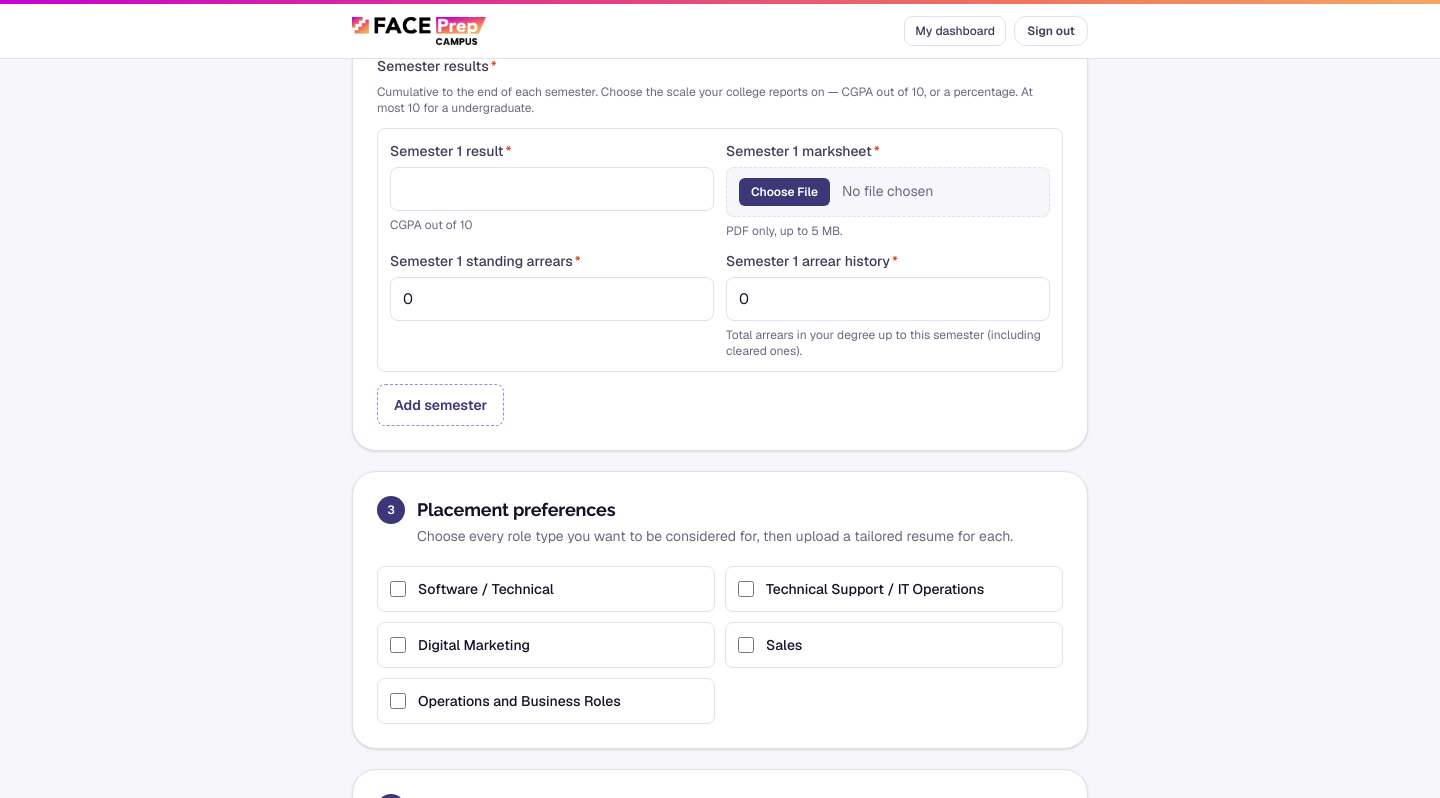
Test case: SRF validation › semester-wise academics › adds the next semester, numbering it automatically
(page scrolled)
Click the button "Add semester" at (441, 405), box [377,384,504,426]
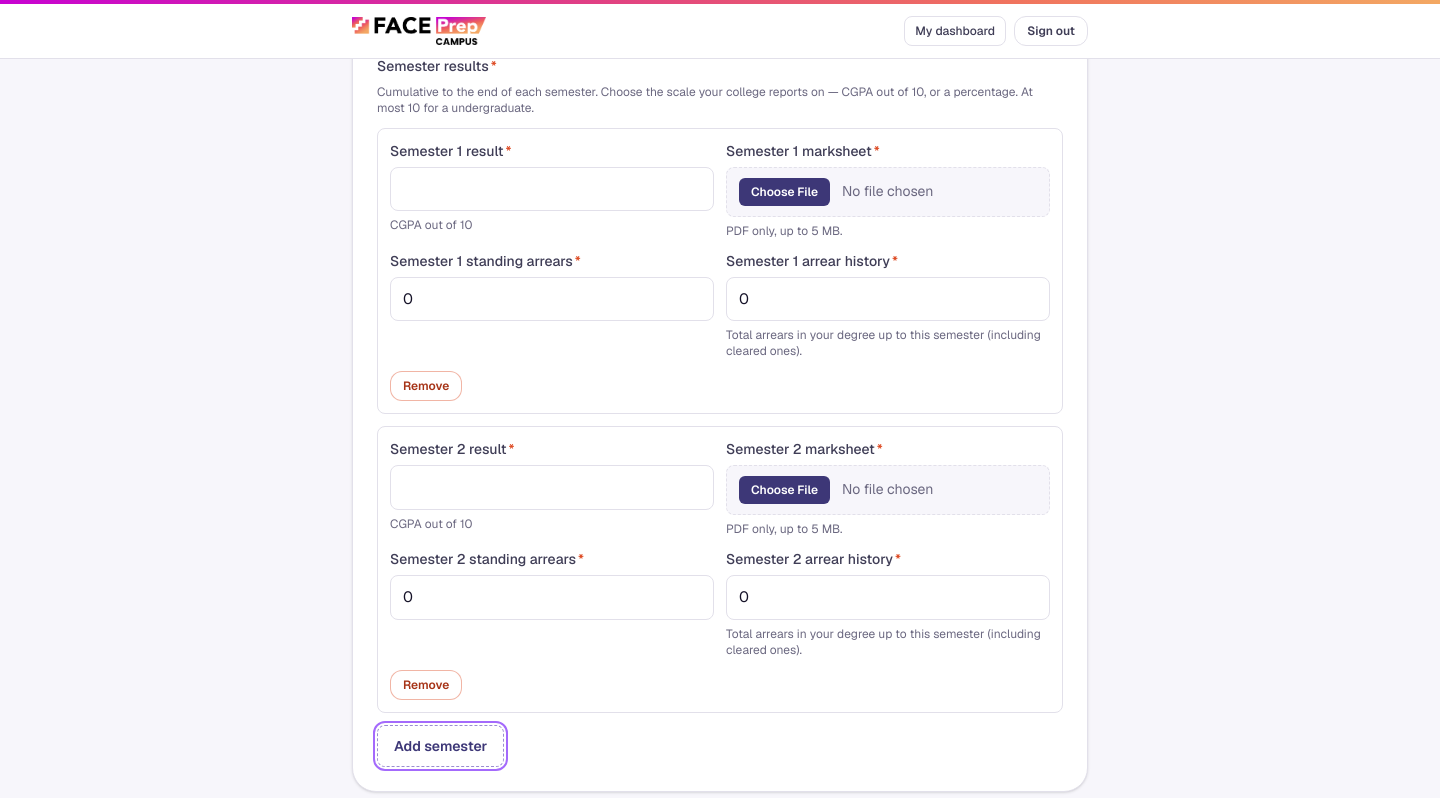
Result: the number field labelled "Semester 2 result*" is shown at [390,465,714,510]
